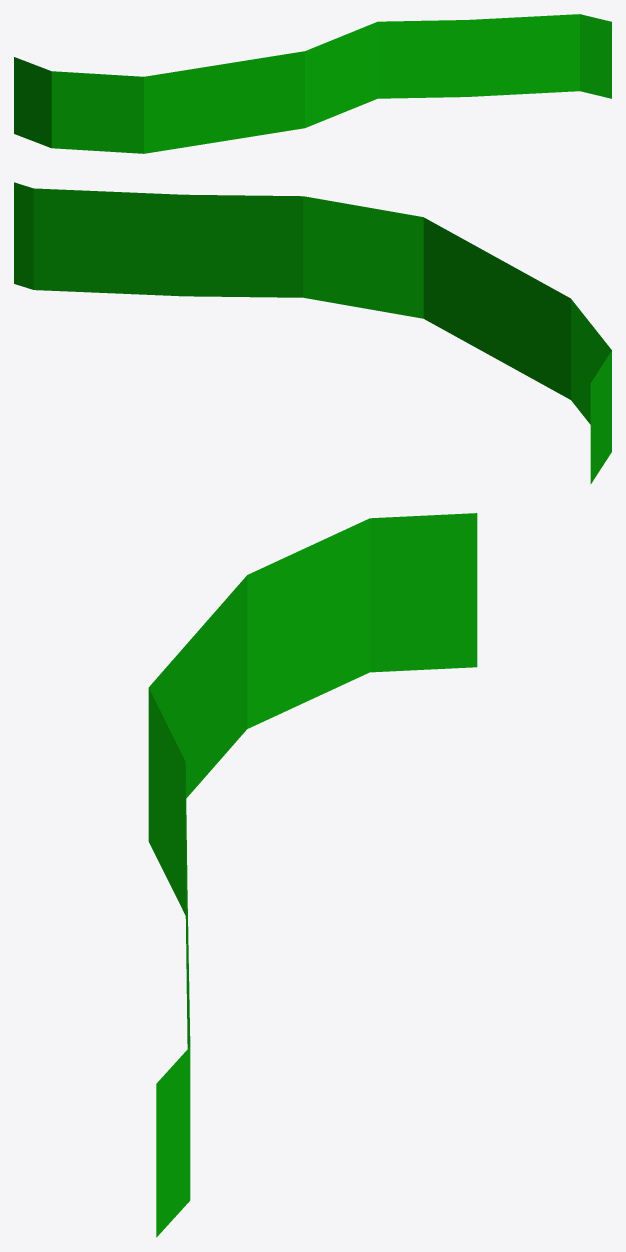
Rendered from M8_Idiot_Stopper_05.glb.
3 renders of one model, top to bottom at view 1: azimuth 30°, elevation 25°; view 2: azimuth 150°, elevation 25°; view 3: azimuth 270°, elevation 25°, orthographic. The views are drawn at different scales.
Visible parts, largest first — view 1: M8_IDIOT_STOPPER_05; view 2: M8_IDIOT_STOPPER_05; view 3: M8_IDIOT_STOPPER_05.
Part boxes in pixels (box(x1,y1,x2,y2)): M8_IDIOT_STOPPER_05: box(14, 14, 611, 153); M8_IDIOT_STOPPER_05: box(14, 182, 611, 484); M8_IDIOT_STOPPER_05: box(148, 513, 477, 1237).
Size of the model in its own units: 52.72 by 12.38 by 14.49.
